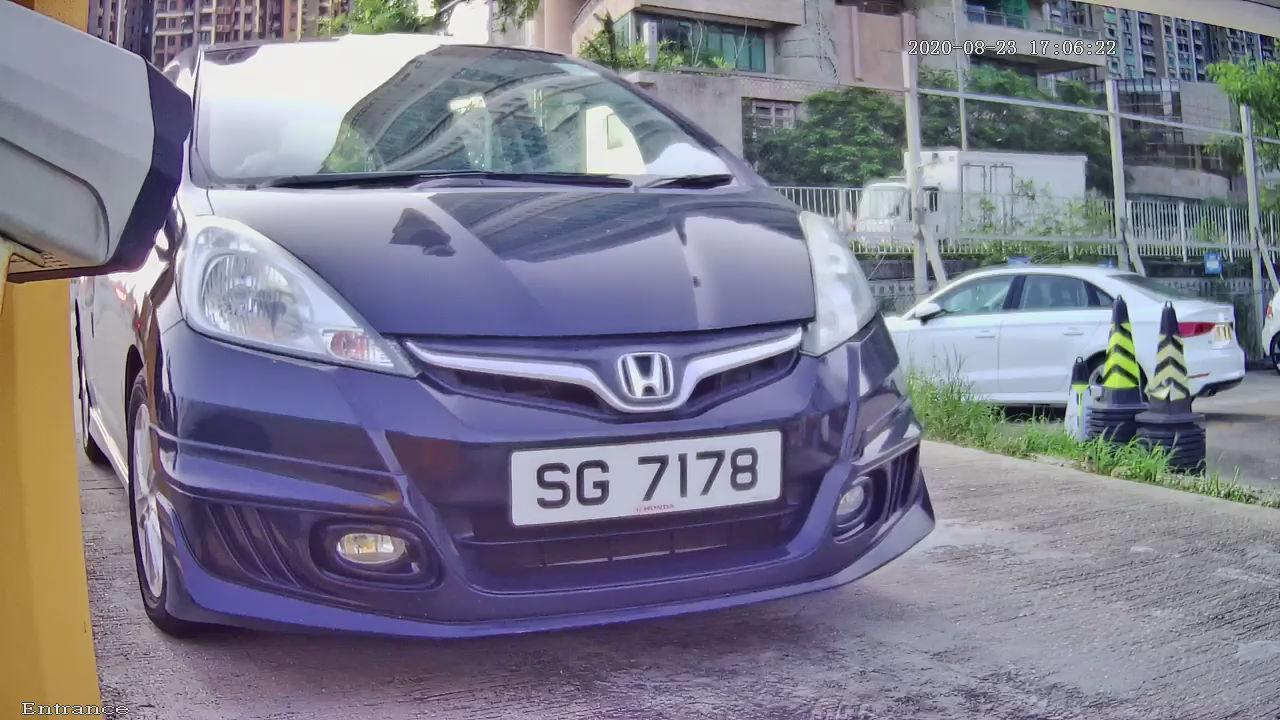Car: (52, 4, 978, 704)
License Plate: (434, 369, 882, 584)
